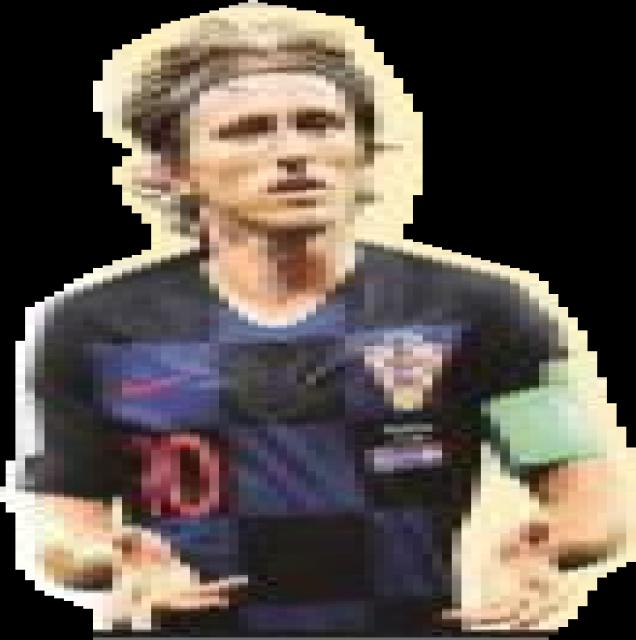paper: (0, 1, 636, 640)
